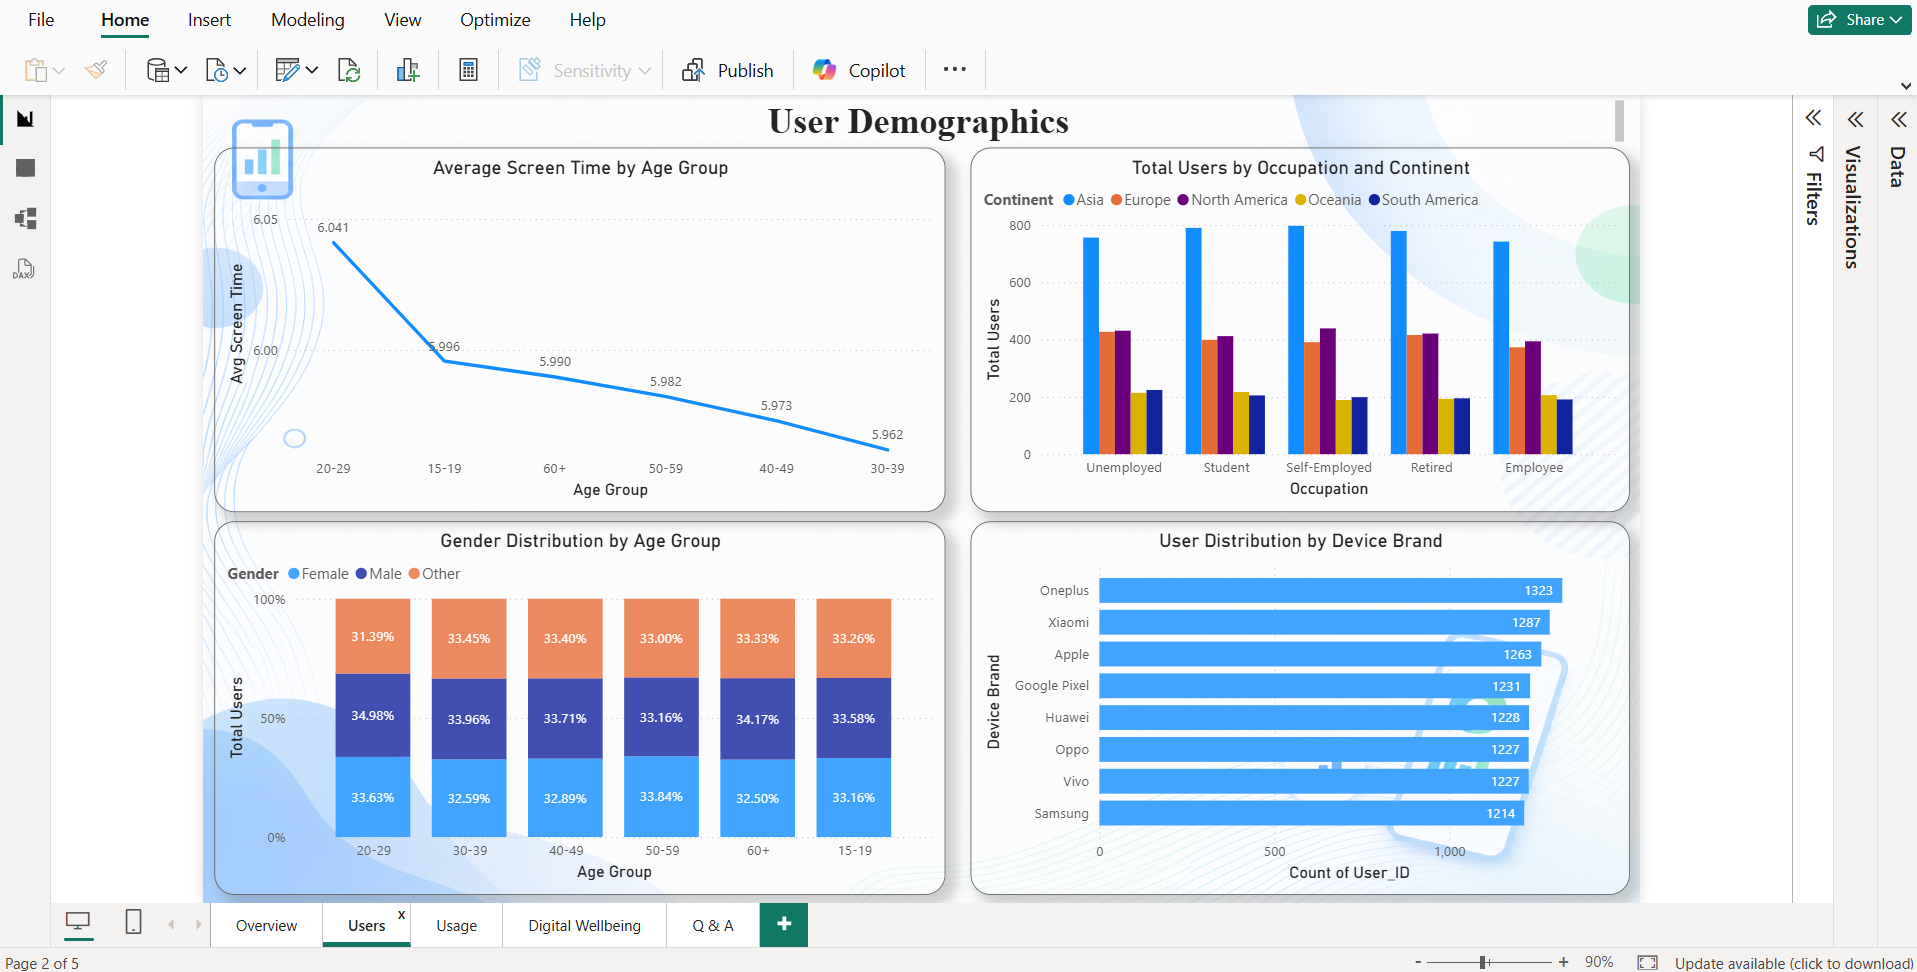

The page's visual inventory and layout, read from the dashboard file:
{"tool":"powerbi","page":{"name":"Users","canvas":[1280,720],"ordinal":1},"visuals":[{"type":"clusteredBarChart","title":"User Distribution by Device Brand","fields":{"Category":["Mobile_ScreenTime_Dataset.Device Brand"],"Y":["CountNonNull(Mobile_ScreenTime_Dataset.User_ID)"]},"box":[683.7,379.1,587.2,332.6],"z":0},{"type":"clusteredColumnChart","title":"Total Users by Occupation and Continent","fields":{"Category":["Mobile_ScreenTime_Dataset.Occupation"],"Y":["Mobile_ScreenTime_Dataset.Total Users"],"Series":["Mobile_ScreenTime_Dataset.Continent"]},"box":[683.7,46.5,587.2,324.4],"z":1000},{"type":"hundredPercentStackedColumnChart","title":"Gender Distribution by Age Group","fields":{"Category":["Mobile_ScreenTime_Dataset.Age Group"],"Y":["Mobile_ScreenTime_Dataset.Total Users"],"Series":["Mobile_ScreenTime_Dataset.Gender"]},"box":[10.5,379.1,651.2,332.6],"z":2000},{"type":"lineChart","title":"Average Screen Time by Age Group","fields":{"Y":["Mobile_ScreenTime_Dataset.Avg Screen Time"],"Category":["Mobile_ScreenTime_Dataset.Age Group"]},"box":[10.5,46.5,651.2,324.4],"z":3000},{"type":"textbox","box":[10.9,0,1259.5,47.1],"z":4000}]}

Visuals, with their boxes on the page's 1280x720 design canvas (x1, y1, x2, y2). These are canvas units, not pixel positions in the 1917x972 screenshot, which may show the page scaled, cropped or inside an application window:
"User Distribution by Device Brand" clusteredBarChart: (684,379,1271,712)
"Total Users by Occupation and Continent" clusteredColumnChart: (684,46,1271,371)
"Gender Distribution by Age Group" hundredPercentStackedColumnChart: (10,379,662,712)
"Average Screen Time by Age Group" lineChart: (10,46,662,371)
textbox: (11,0,1270,47)
